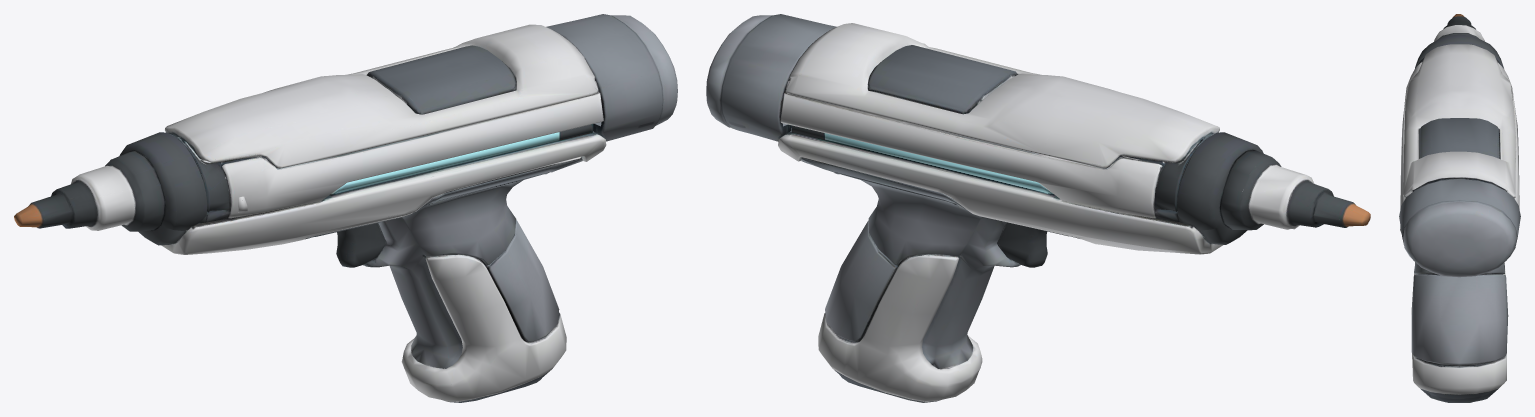
The picture shows the model from 3 angles, left to right: view 1: azimuth 30°, elevation 25°; view 2: azimuth 150°, elevation 25°; view 3: azimuth 270°, elevation 25°; orthographic projection. The views are drawn at different scales.
Visible parts, largest first — view 1: tripo_node_9f9048e6-2101-4eb3-9068-00870199b11d; view 2: tripo_node_9f9048e6-2101-4eb3-9068-00870199b11d; view 3: tripo_node_9f9048e6-2101-4eb3-9068-00870199b11d.
Part boxes in pixels (left/top/right/bottom): tripo_node_9f9048e6-2101-4eb3-9068-00870199b11d: left=14, top=14, right=677, bottom=402; tripo_node_9f9048e6-2101-4eb3-9068-00870199b11d: left=706, top=14, right=1370, bottom=402; tripo_node_9f9048e6-2101-4eb3-9068-00870199b11d: left=1399, top=14, right=1520, bottom=402.
Bounding box in the file's own units: 0.998 × 0.502 × 0.2246.
Materials: 1 (1 with a texture image).
